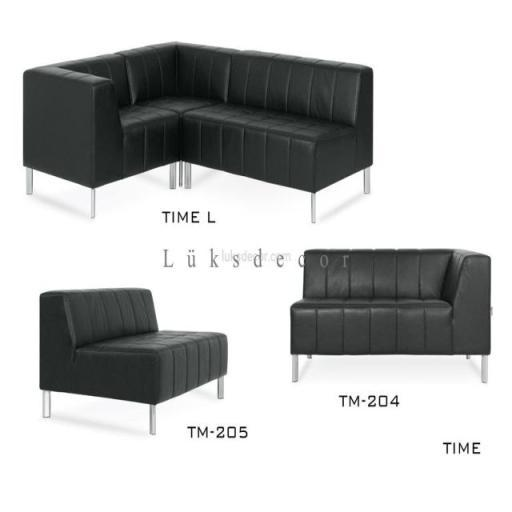sofa: (29, 28, 458, 222), (33, 264, 258, 450), (290, 236, 512, 394)
